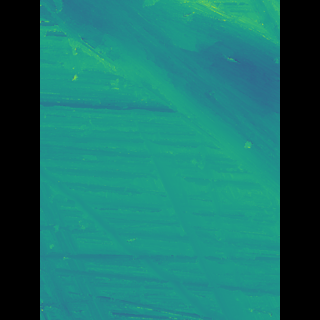Loch: (70, 0, 252, 205), (69, 163, 210, 319)
